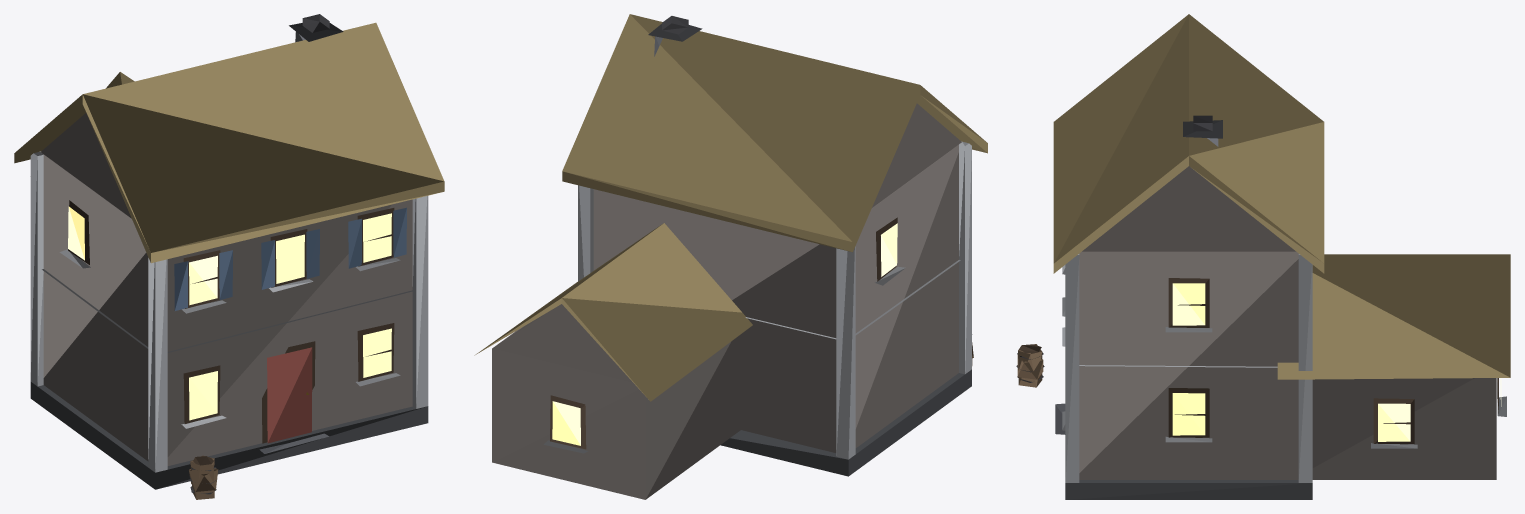
The model's file is bree_house_stone_2_lod1.glb.
3 views of the same model, side by side, from view 1: azimuth 30°, elevation 25°; view 2: azimuth 150°, elevation 25°; view 3: azimuth 270°, elevation 25° (orthographic).
Visible parts, largest first — view 1: bree_house_stone_2_lod1; view 2: bree_house_stone_2_lod1; view 3: bree_house_stone_2_lod1.
Boxes of the visible parts, left/top/right/bottom form: bree_house_stone_2_lod1: left=14, top=14, right=444, bottom=499; bree_house_stone_2_lod1: left=474, top=14, right=987, bottom=499; bree_house_stone_2_lod1: left=1016, top=14, right=1510, bottom=499.
Bounding box in the file's own units: 7.2 × 8.51 × 10.61.
